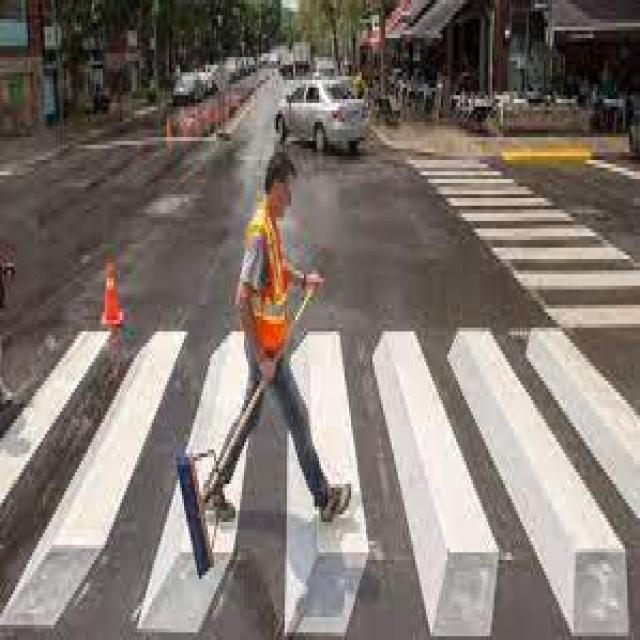Crosswalk: (407, 158, 640, 334)
